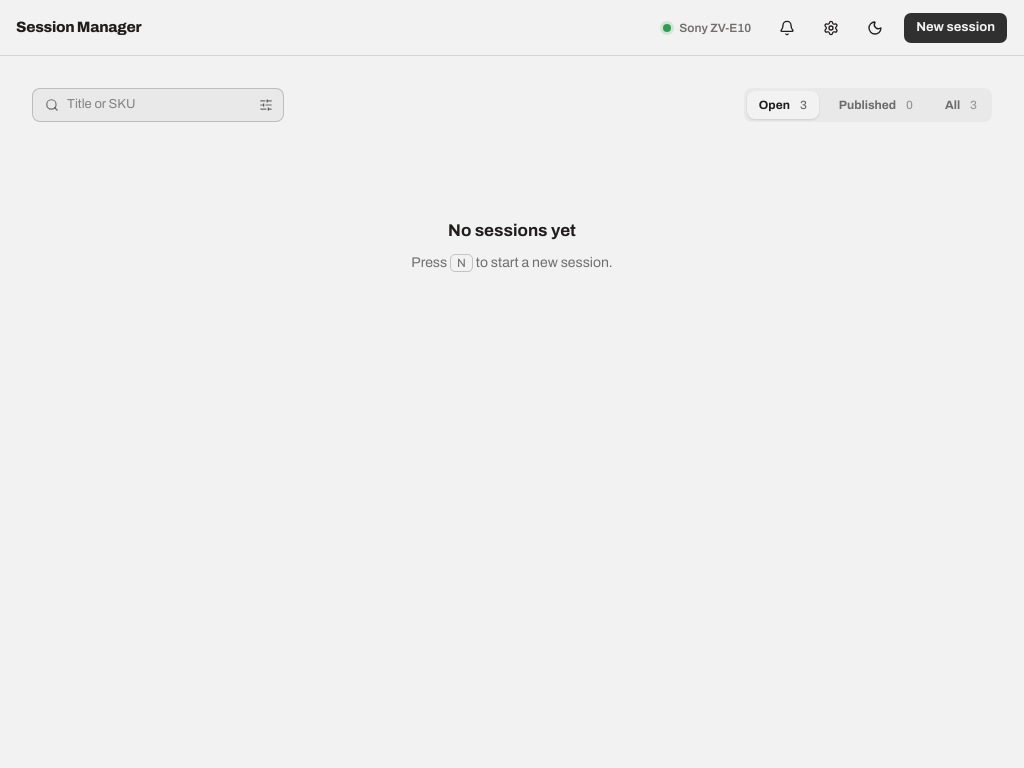
Scenario: C5 new session › C5(a) no match for "Brass floor lamp" shows the Create row
Press n
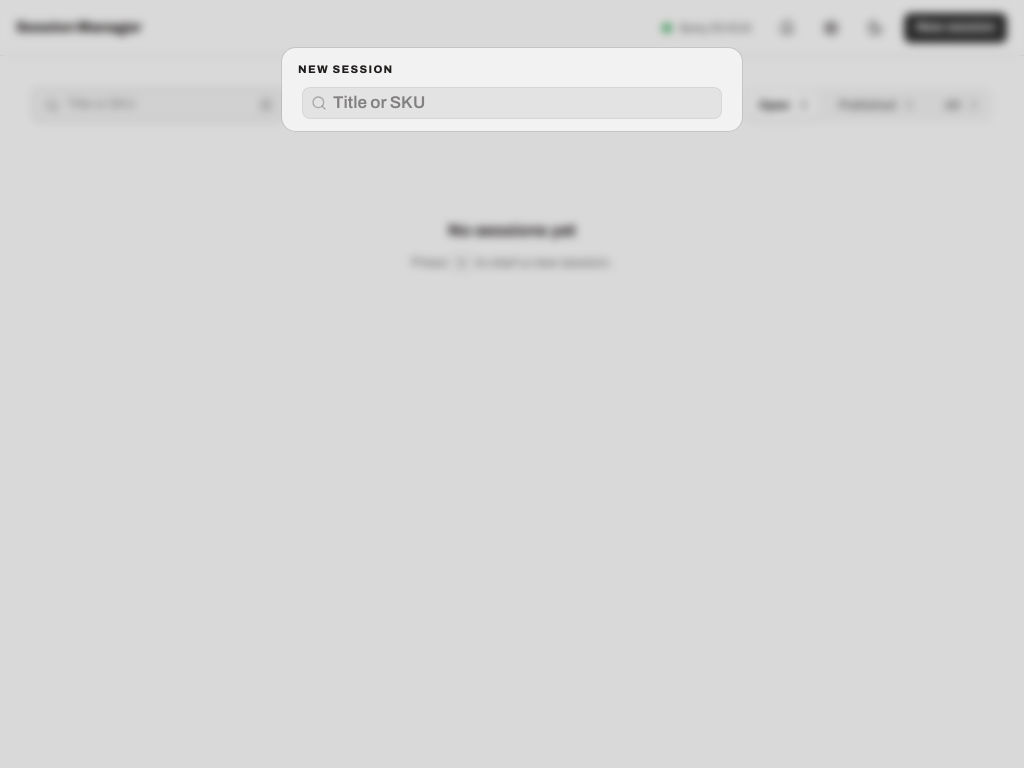
In the dropdown named "Search items by title or SKU": (524, 103) [327,91,721,115], type "Brass floor lamp"
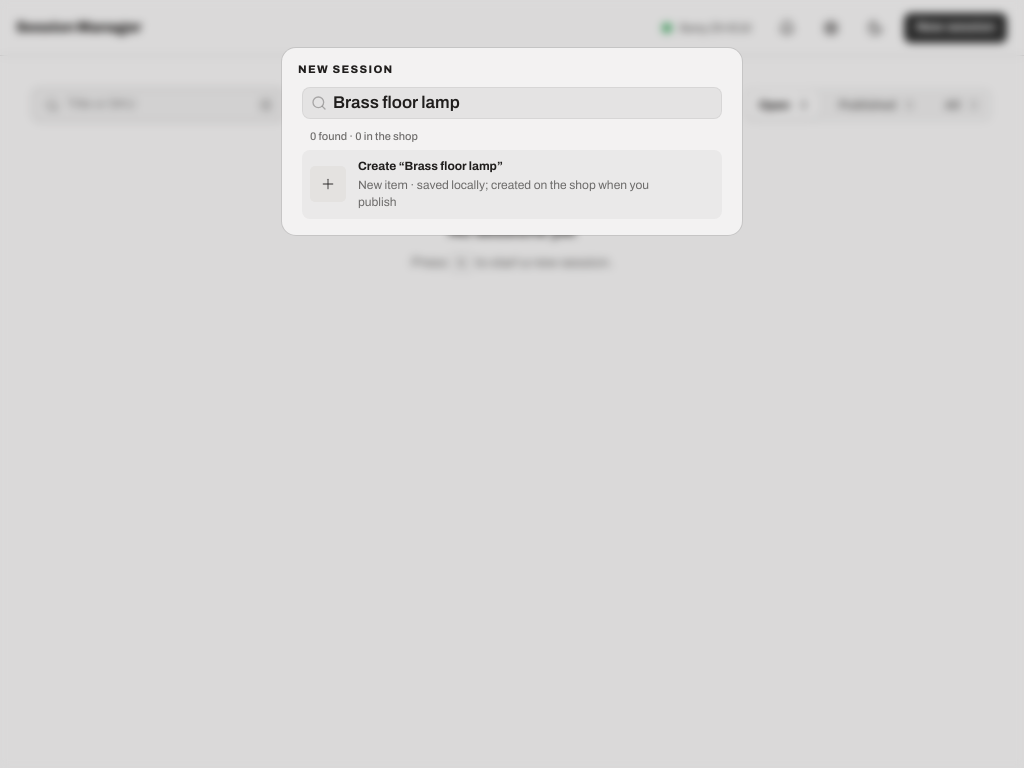
Check: the text "Create “Brass floor lamp”" is shown, box [358,159,503,173]
